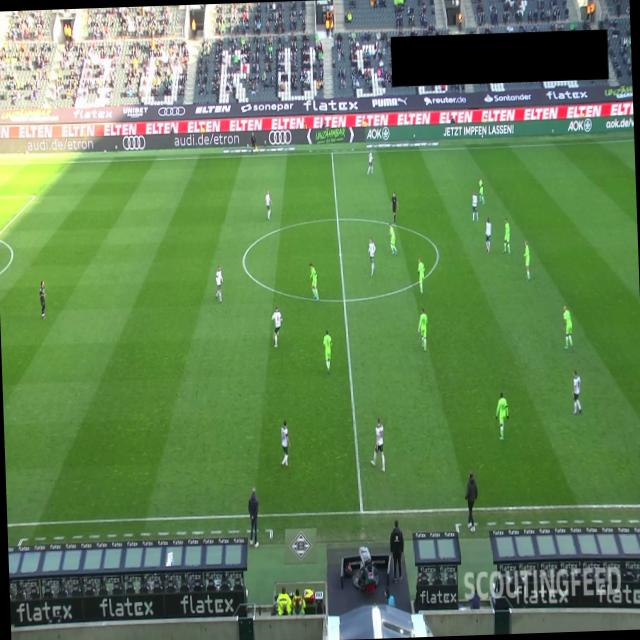goalkeeper: (38, 280, 46, 319)
player: (368, 417, 386, 472), (494, 390, 509, 440), (280, 419, 292, 468), (416, 306, 428, 352), (570, 369, 582, 414), (270, 304, 282, 348), (562, 304, 573, 350), (322, 328, 333, 374), (308, 261, 319, 300), (416, 256, 426, 296), (214, 264, 224, 304), (387, 221, 398, 255), (501, 217, 511, 254), (368, 236, 377, 276), (522, 240, 530, 282), (483, 216, 492, 253), (264, 188, 274, 219), (471, 188, 478, 222), (366, 150, 374, 175), (478, 176, 484, 204)
referee: (389, 191, 398, 224), (250, 131, 258, 155)
